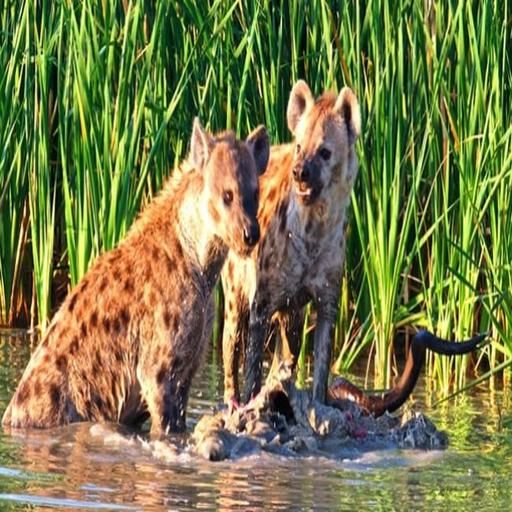Hyena: (0, 115, 266, 453), (195, 77, 369, 425)
